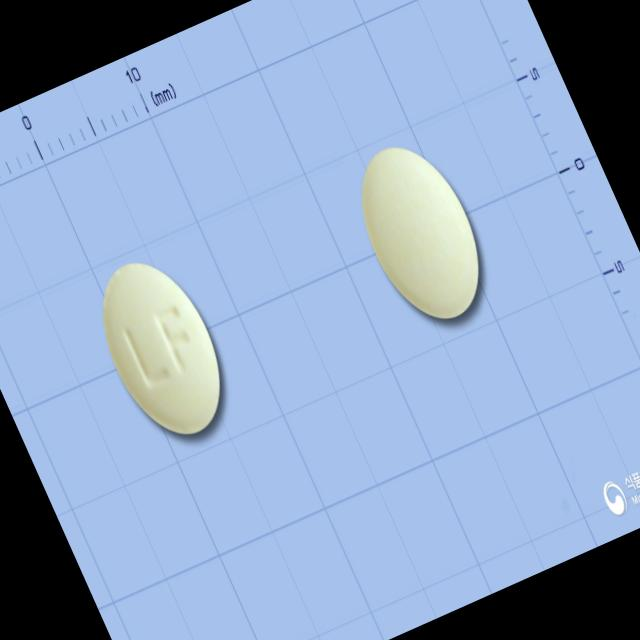Levofloxacin Tab- Dongsung: (77, 243, 245, 452)
